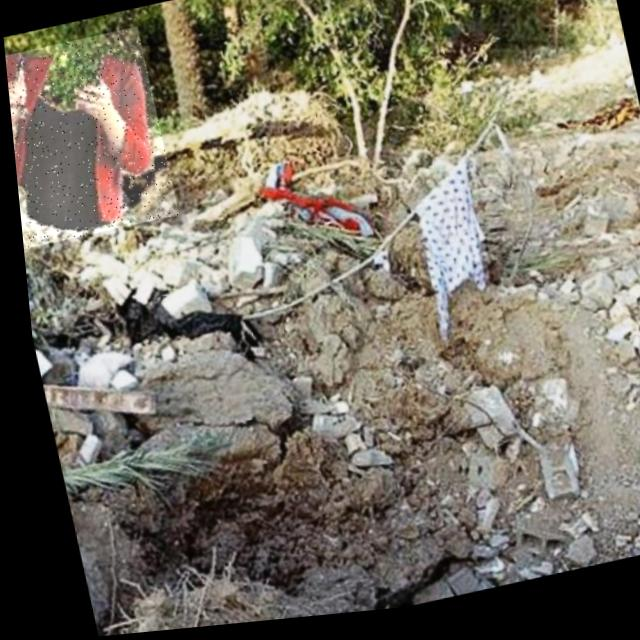Person in Rubble: (3, 26, 175, 249)
